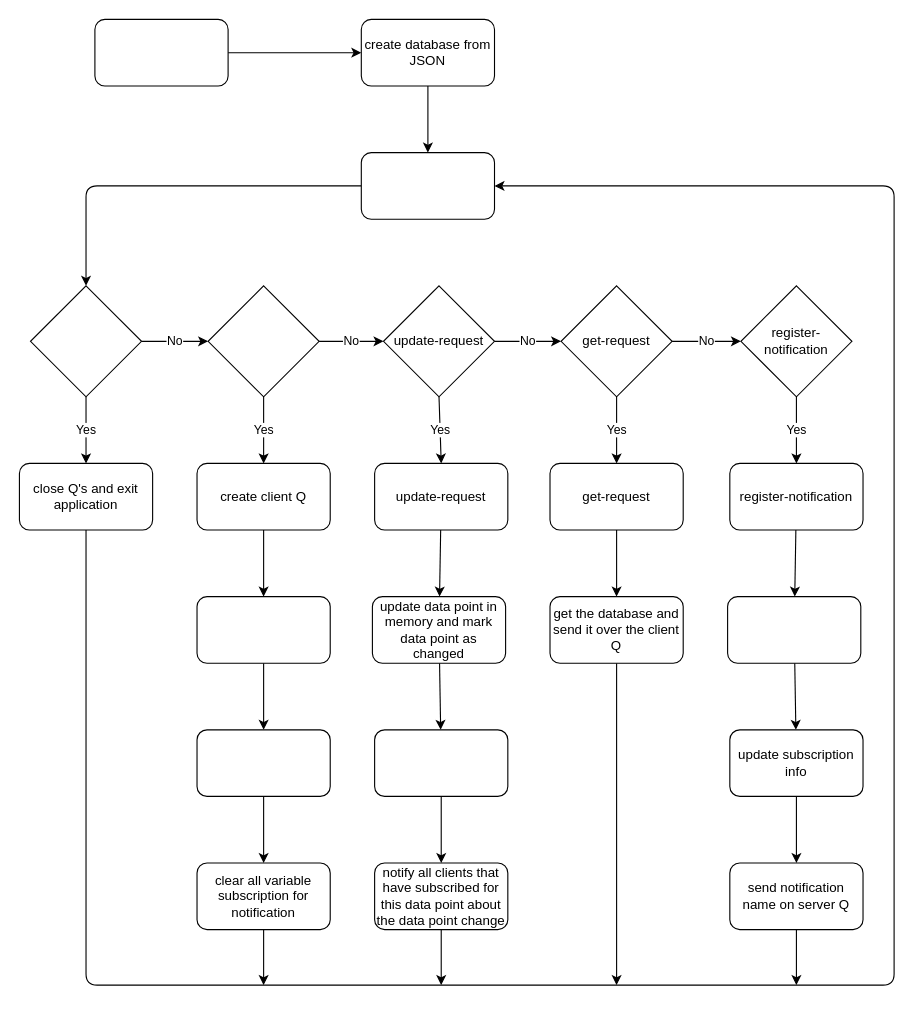
Some shapes in this 922 by 1013 pixel diagram are drawn without their labels. Here are the shapes that lost their labels. From the top down, the centre of each, then its label:
At (x=161, y=52): "create server Q".
At (x=427, y=185): "wait for command on server Q".
At (x=85, y=341): "check disconnect signal".
At (x=263, y=341): "register-client".
At (x=263, y=629): "send client Q name via server Q".
At (x=793, y=629): "create notification Q".
At (x=263, y=762): "update global client info".
At (x=441, y=762): "send update-ack to client on client Q".
